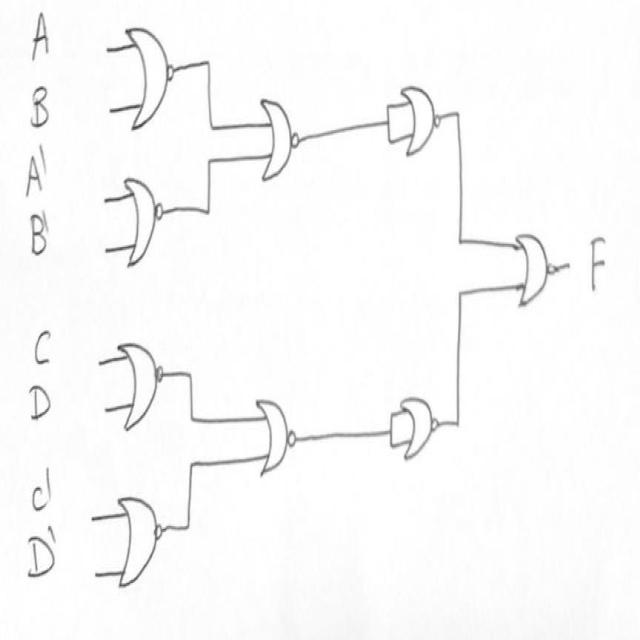NOR: (504, 211, 566, 333), (111, 326, 174, 444), (120, 13, 176, 139), (256, 75, 308, 202), (115, 473, 166, 601), (116, 165, 169, 282), (249, 376, 300, 489), (398, 73, 448, 179), (396, 373, 442, 473)
